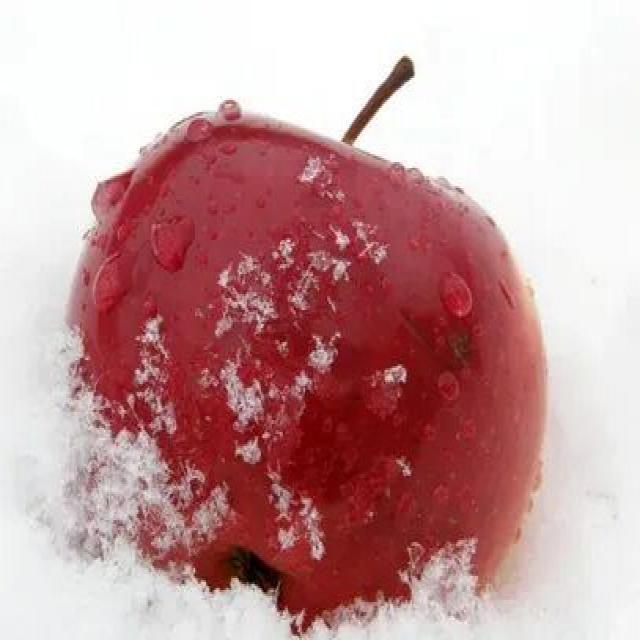Fresh Apple: (102, 112, 530, 600)
